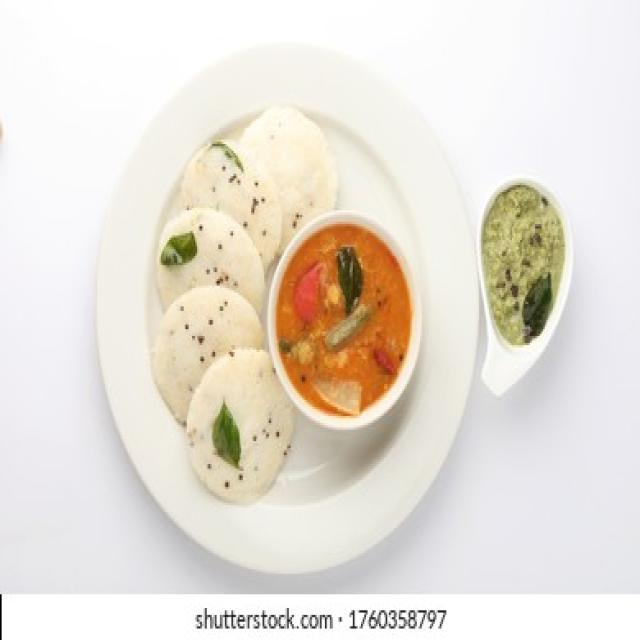IDLI: (187, 347, 292, 503), (153, 286, 261, 421), (240, 107, 335, 249), (179, 139, 279, 265), (159, 210, 264, 306)
